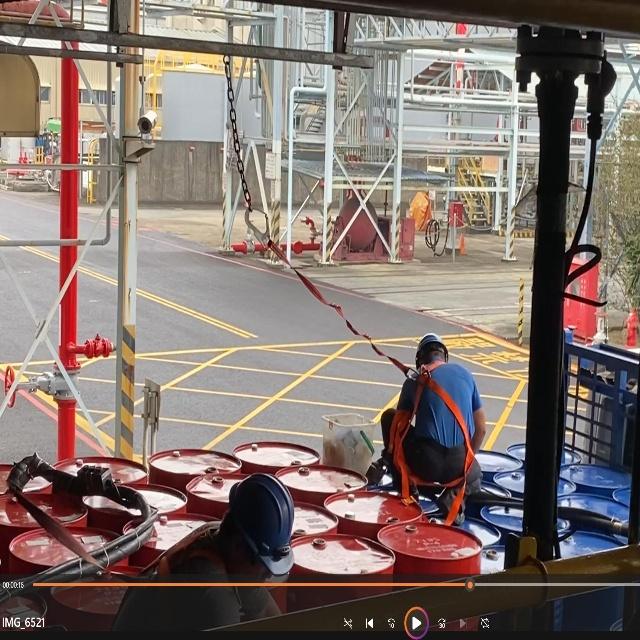Arnes_seguridad: (107, 520, 281, 640), (387, 359, 481, 529)
